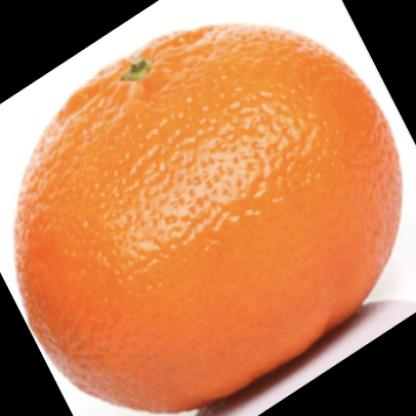fresh: (17, 23, 401, 412)
